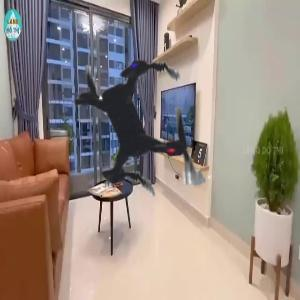drone: (21, 3, 264, 246)
